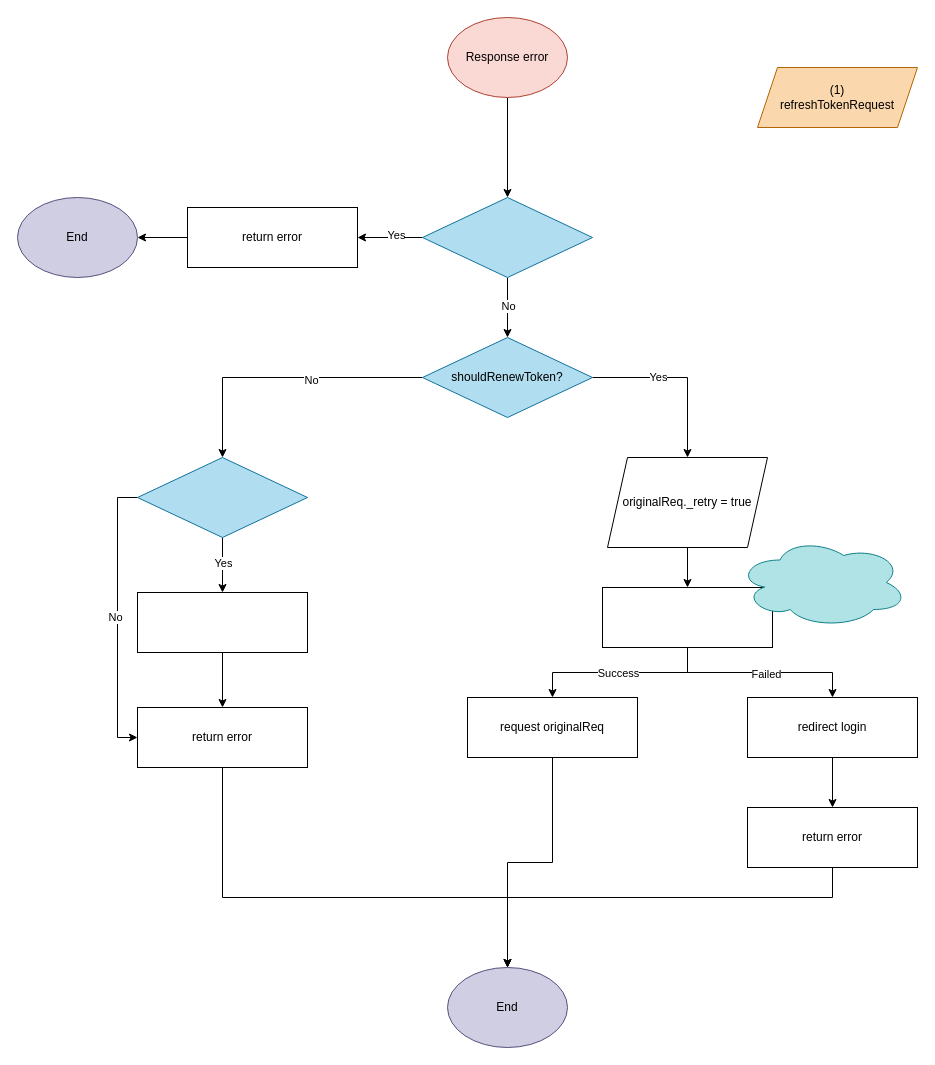
Image size: 935x1065. Some labels were removed from this diagram. Each missing label, with the box of its shape:
deduplicate request with (1): (736, 536, 908, 628)
forbidden error?: (136, 456, 308, 538)
isRefreshTokenError?: (422, 196, 592, 278)
redirect forbidden page: (136, 592, 308, 652)
request API refreshToken: (602, 586, 772, 648)
